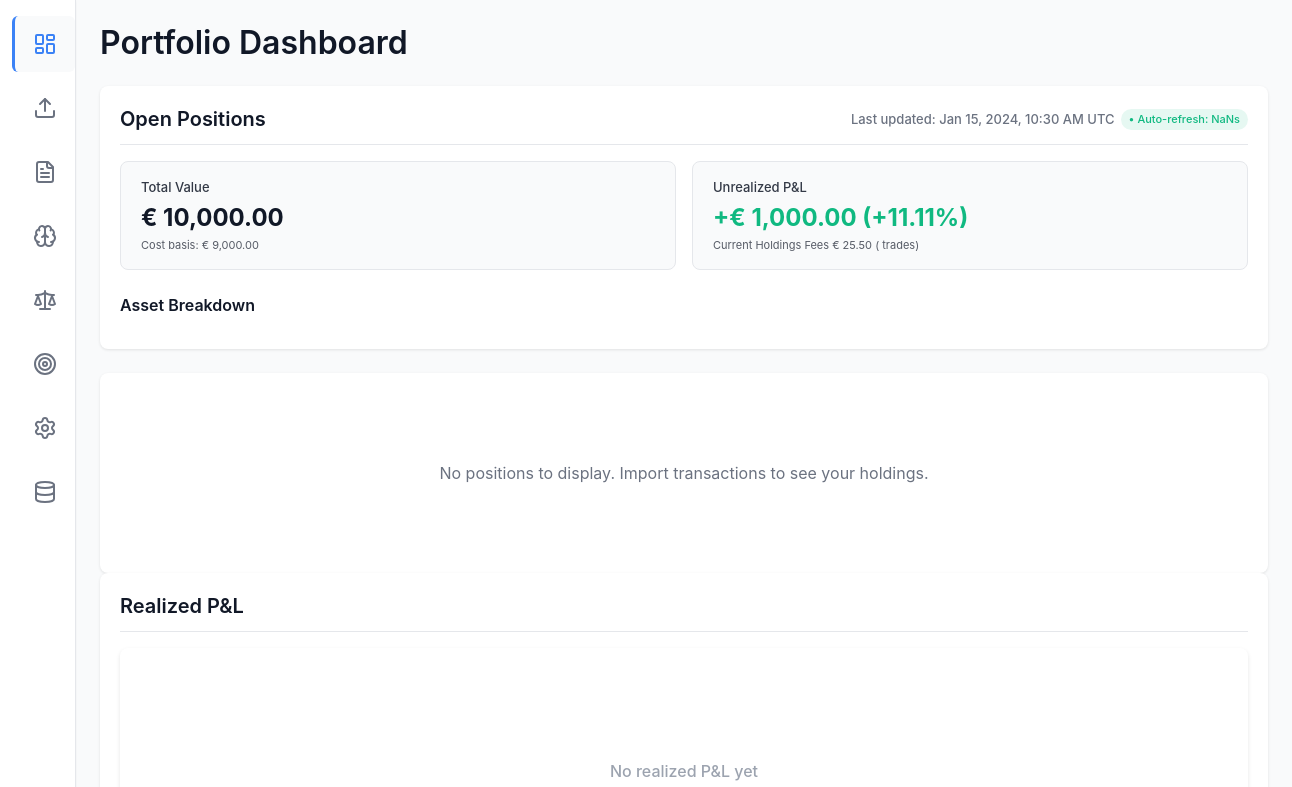
Test case: App Integration Tests - Epic 6 › Sidebar Navigation › maintains tab state across navigation
// Go to upload
Click the button titled "Upload". click: {"x": 44, "y": 108}
box: left=12, top=80, right=75, bottom=136
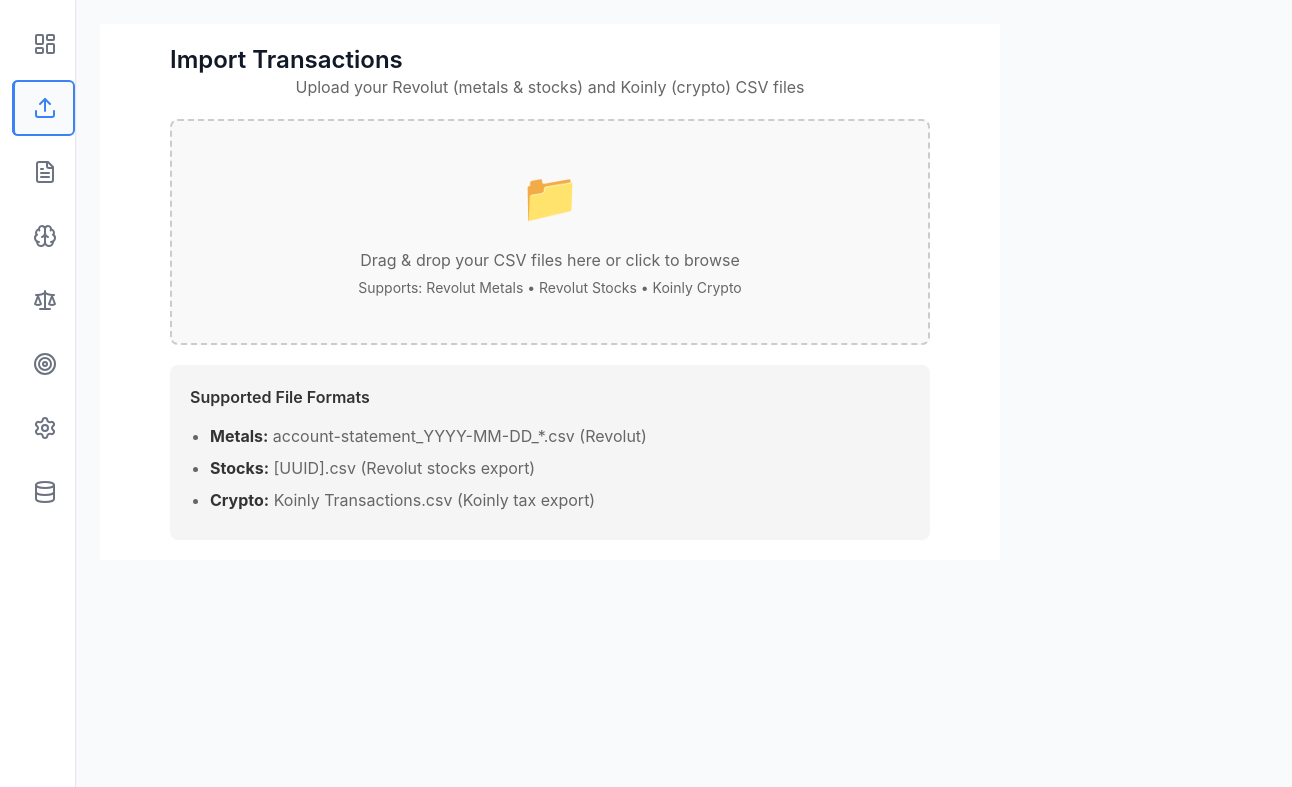
Expected: the heading "Import Transactions" is shown, left=170, top=45, right=403, bottom=74
// Go back to portfolio
Click the button titled "Portfolio". click: {"x": 44, "y": 44}
box: left=12, top=16, right=75, bottom=72
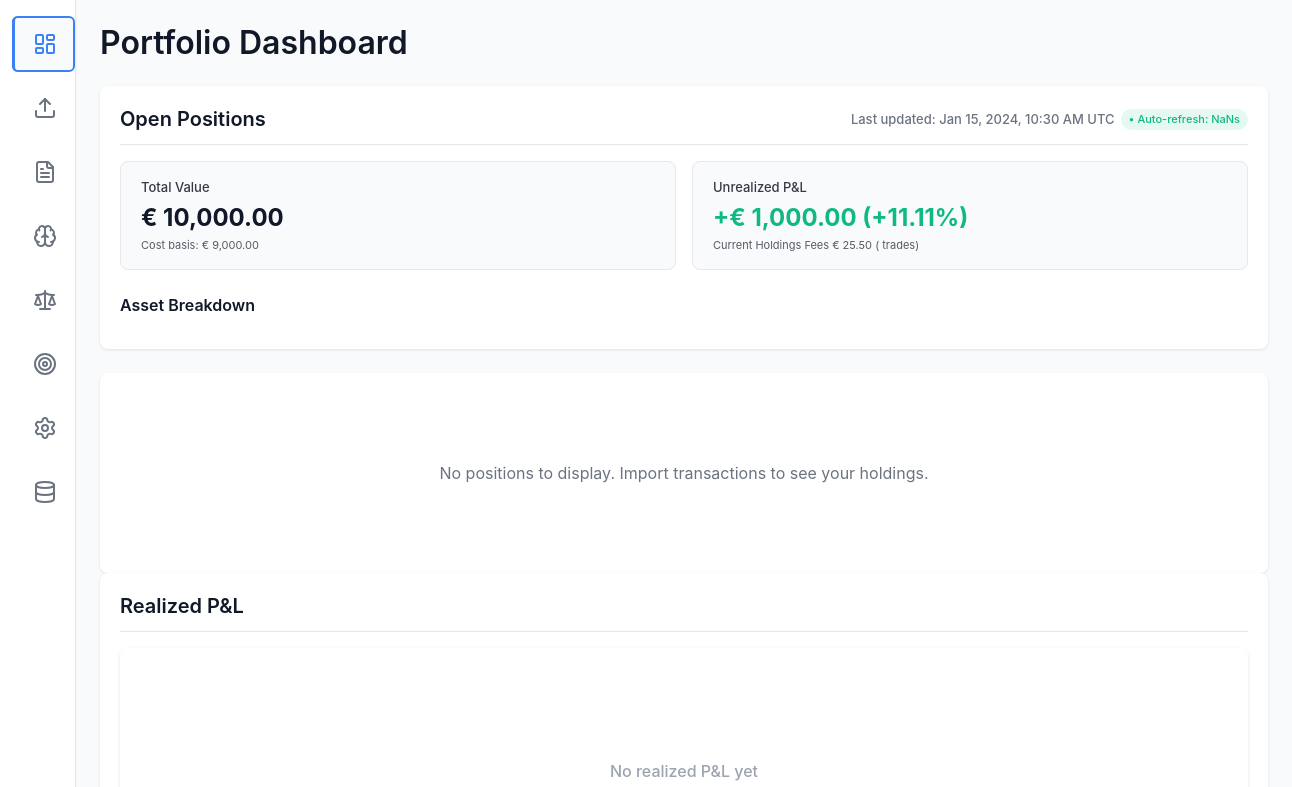
Expected: the heading "Portfolio Dashboard" is shown, left=100, top=23, right=408, bottom=62
